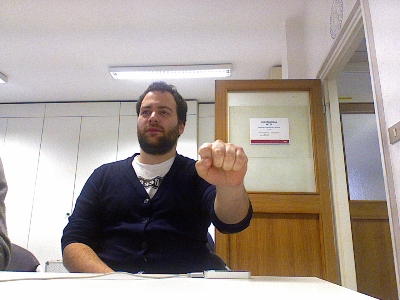石头: (193, 139, 248, 188)
